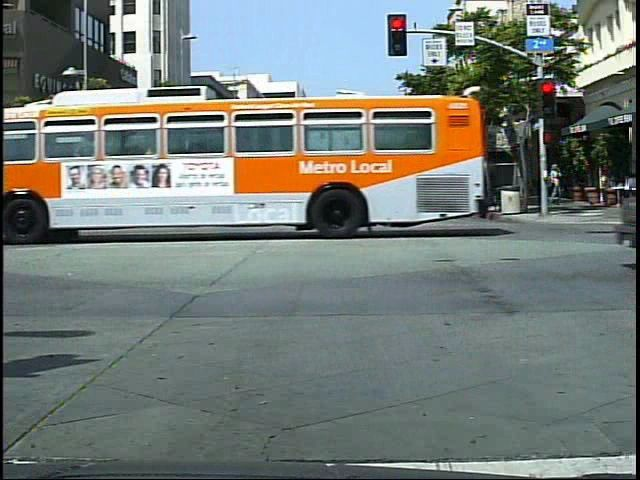person: (278, 165, 310, 229), (176, 168, 206, 234), (350, 166, 379, 230), (548, 160, 571, 204)
